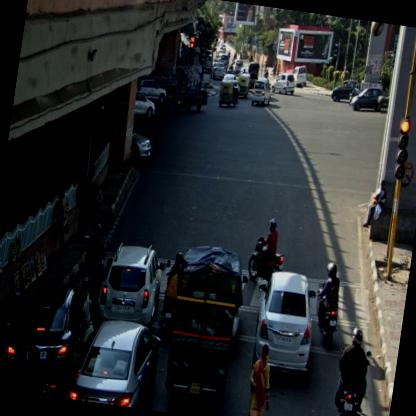car: (2, 279, 82, 397), (67, 312, 163, 410), (246, 267, 318, 381), (94, 237, 166, 330), (135, 76, 168, 107), (349, 84, 384, 113), (329, 76, 360, 106), (250, 78, 274, 109), (269, 70, 297, 94), (132, 92, 156, 119), (291, 62, 308, 86), (209, 60, 226, 81), (230, 58, 244, 74)
motorcycle: (328, 324, 375, 415), (245, 214, 290, 284), (311, 261, 345, 351), (78, 220, 112, 296), (155, 250, 182, 340)
truck: (161, 242, 245, 412), (173, 64, 212, 115)
